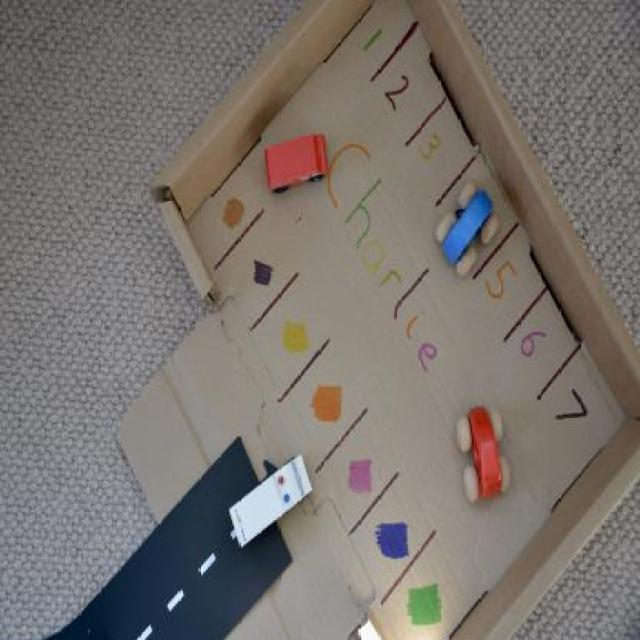box: (117, 0, 638, 640)
